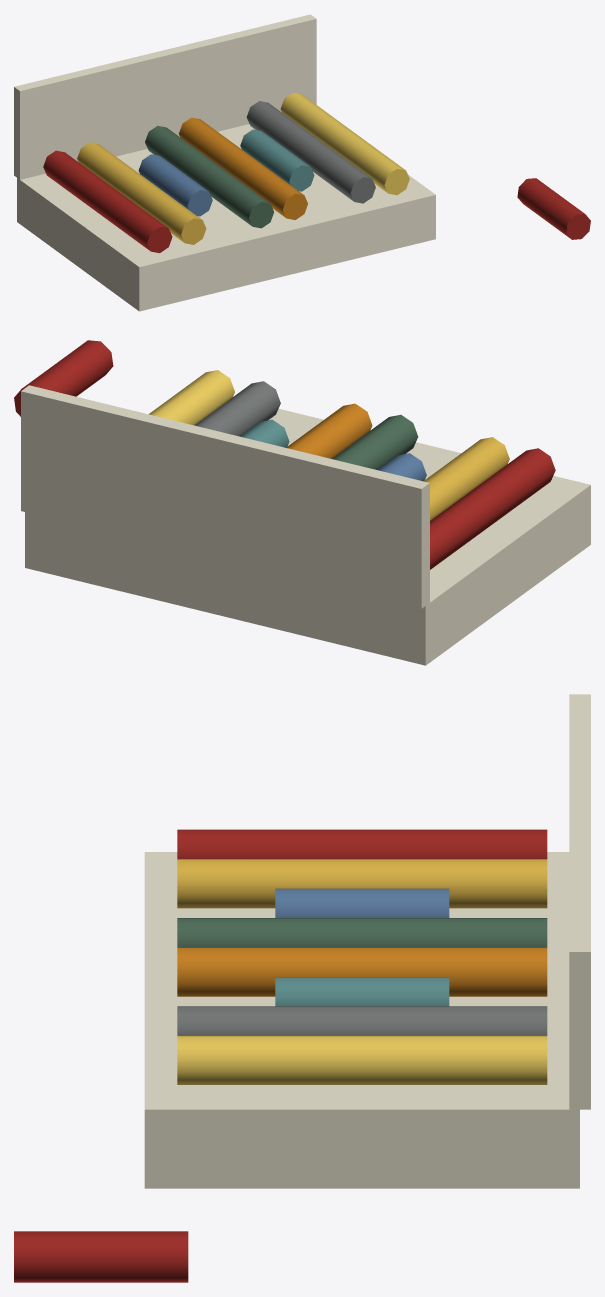
The model's file is Crayons_box.obj.
3 views of the same model, one above another, from view 1: azimuth 30°, elevation 25°; view 2: azimuth 150°, elevation 25°; view 3: azimuth 270°, elevation 25° (orthographic). The views are drawn at different scales.
Parts seen in each view (by area): view 1: Crayons_box; view 2: Crayons_box; view 3: Crayons_box.
Boxes of the visible parts, left/top/right/bottom form: Crayons_box: left=14, top=14, right=590, bottom=311; Crayons_box: left=14, top=340, right=590, bottom=665; Crayons_box: left=14, top=694, right=590, bottom=1282.
Bounding box in the file's own units: 0.1958 × 0.06 × 0.1325.
